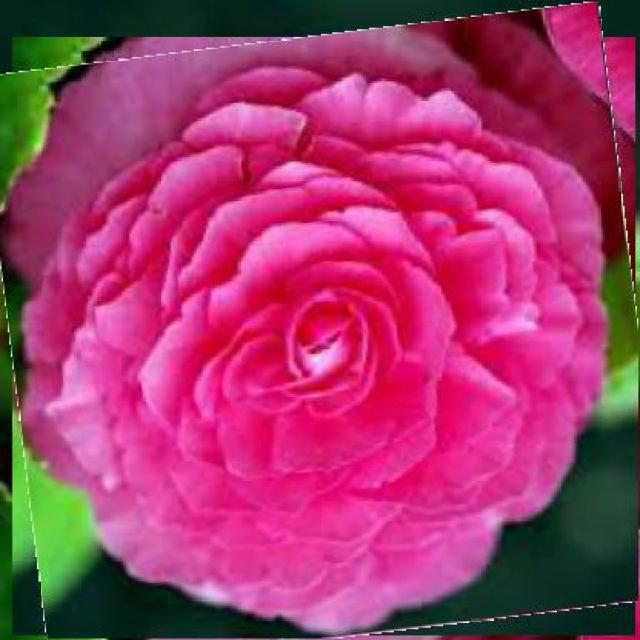Flower: (0, 18, 638, 638)
